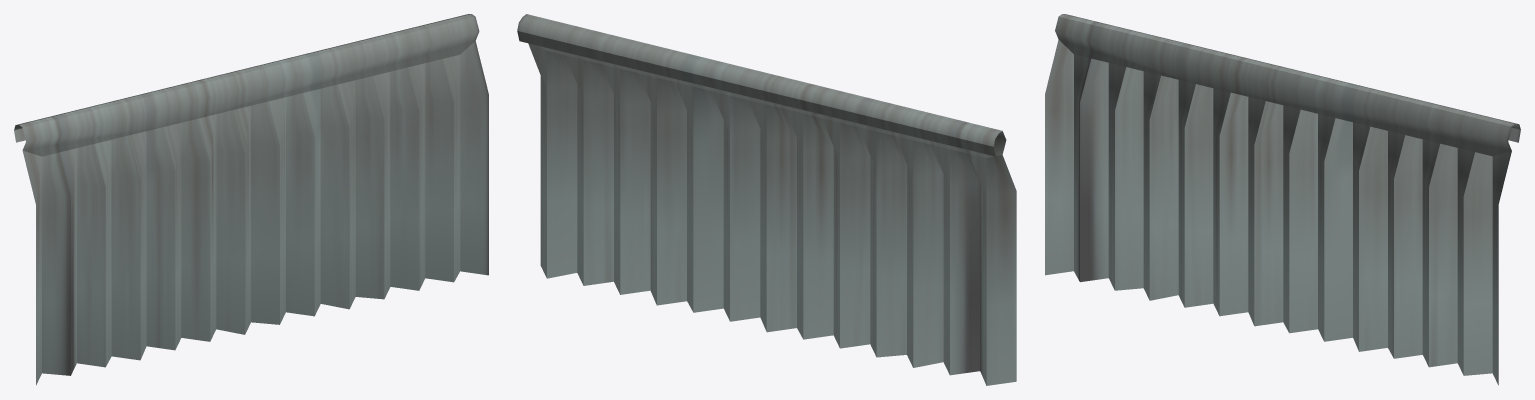
The model's file is Curtain.fbx.
The picture shows the model from 3 angles, left to right: view 1: azimuth 30°, elevation 25°; view 2: azimuth 150°, elevation 25°; view 3: azimuth 330°, elevation 25°; orthographic projection. The views are drawn at different scales.
Parts seen in each view (by area): view 1: group7_shuangrenchuang_t_0.005; view 2: group7_shuangrenchuang_t_0.005; view 3: group7_shuangrenchuang_t_0.005.
Boxes of the visible parts, x1,y1,x2,y2 form: group7_shuangrenchuang_t_0.005: [14, 14, 488, 385]; group7_shuangrenchuang_t_0.005: [517, 14, 1016, 385]; group7_shuangrenchuang_t_0.005: [1045, 14, 1520, 385].
Size of the model in its own units: 93.8 by 49.27 by 7.99.
Materials: 1 (1 with a texture image).
